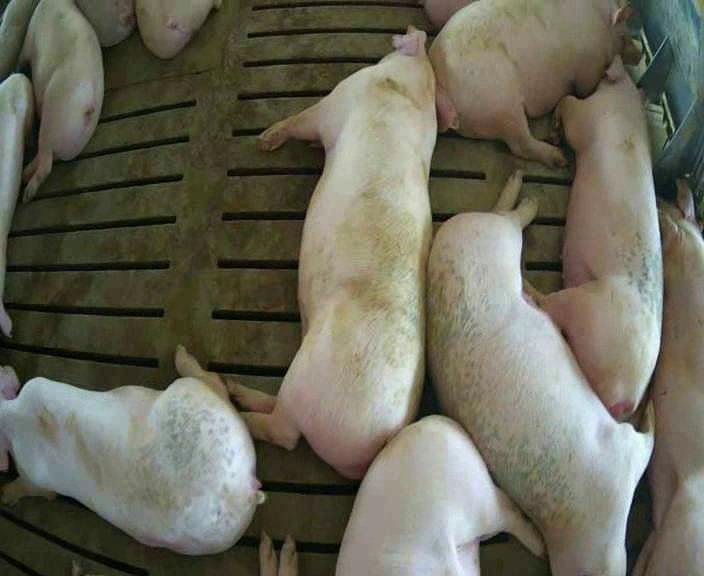pig: (229, 28, 459, 477), (0, 345, 263, 554), (523, 57, 662, 419), (429, 2, 639, 166), (336, 415, 543, 574), (634, 183, 703, 574), (13, 2, 103, 201), (136, 1, 222, 58)
